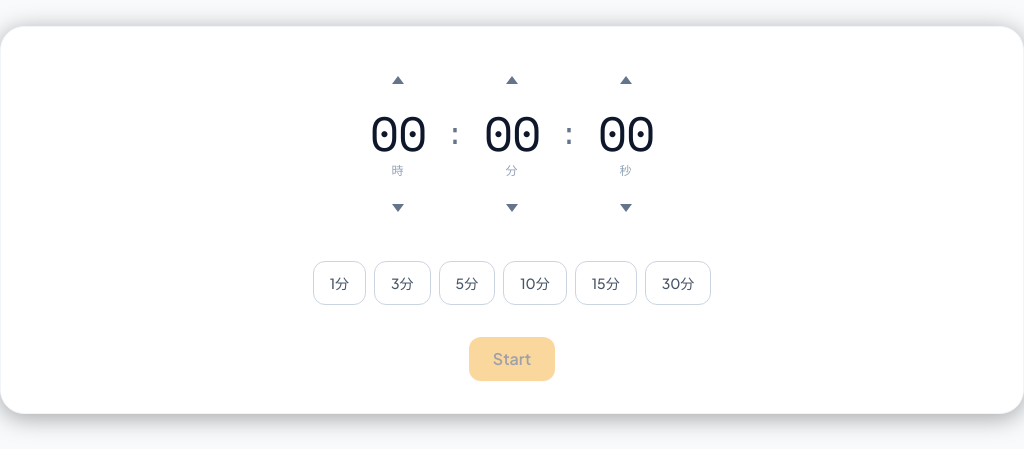
Test: CountdownPanel - extended › shows completed phase when countdown finishes
The image size is (1024, 449).
Note: Set 1 minute
Click the button named "分を増やす".
click(512, 81)  # box x1=490 y1=59 x2=534 y2=103
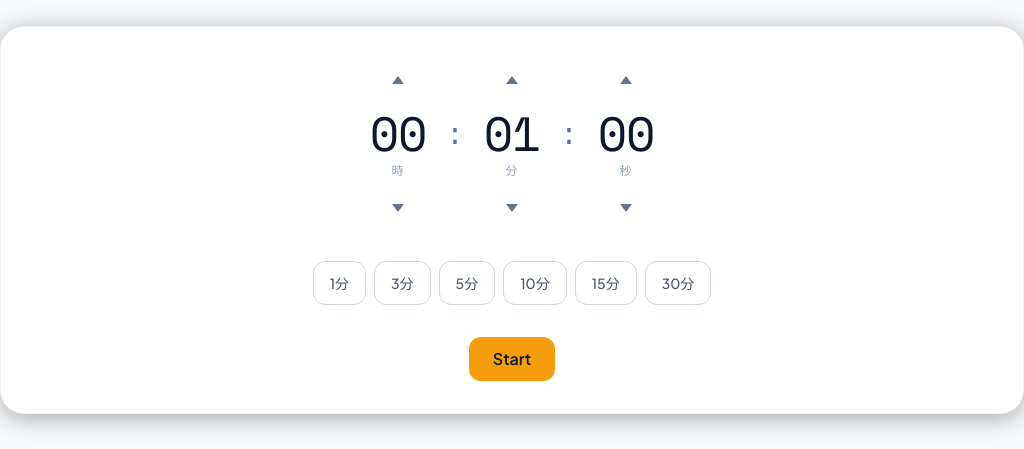
Note: Start countdown
Click the button "Start".
click(512, 359)  # box x1=469 y1=337 x2=555 y2=381
Wait 61000 ms
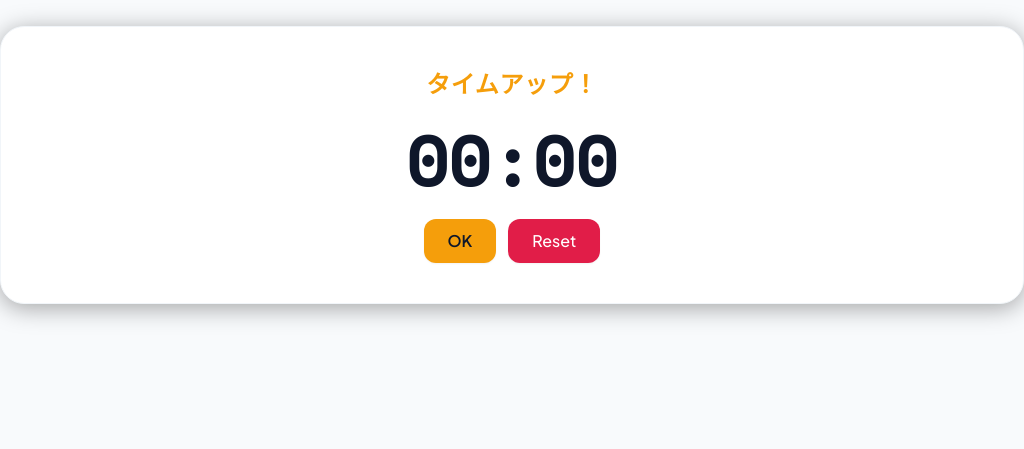
expect the text "タイムアップ！" is shown: met, box x1=426 y1=67 x2=598 y2=99
expect the button "OK" is shown: met, box x1=424 y1=219 x2=496 y2=263
expect the button "Reset" is shown: met, box x1=508 y1=219 x2=600 y2=263
